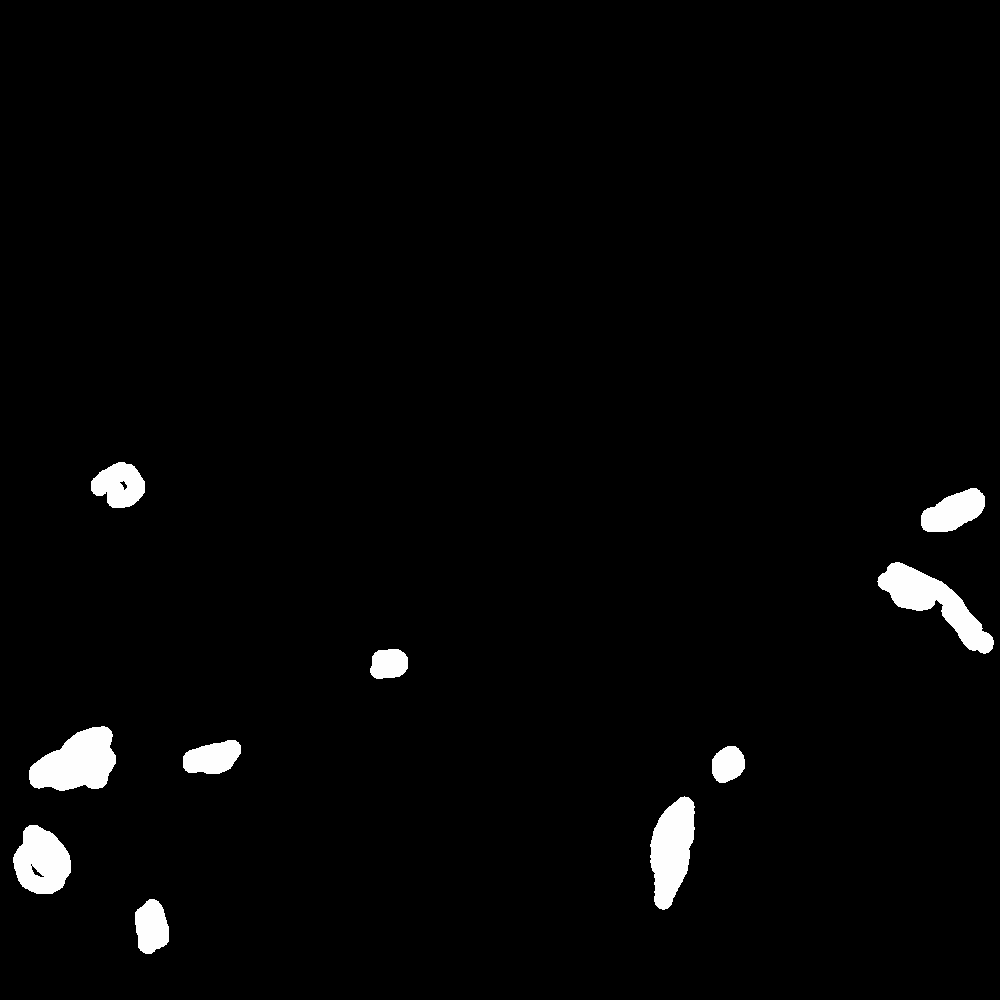illegal: (10, 726, 122, 905), (703, 734, 752, 794)
